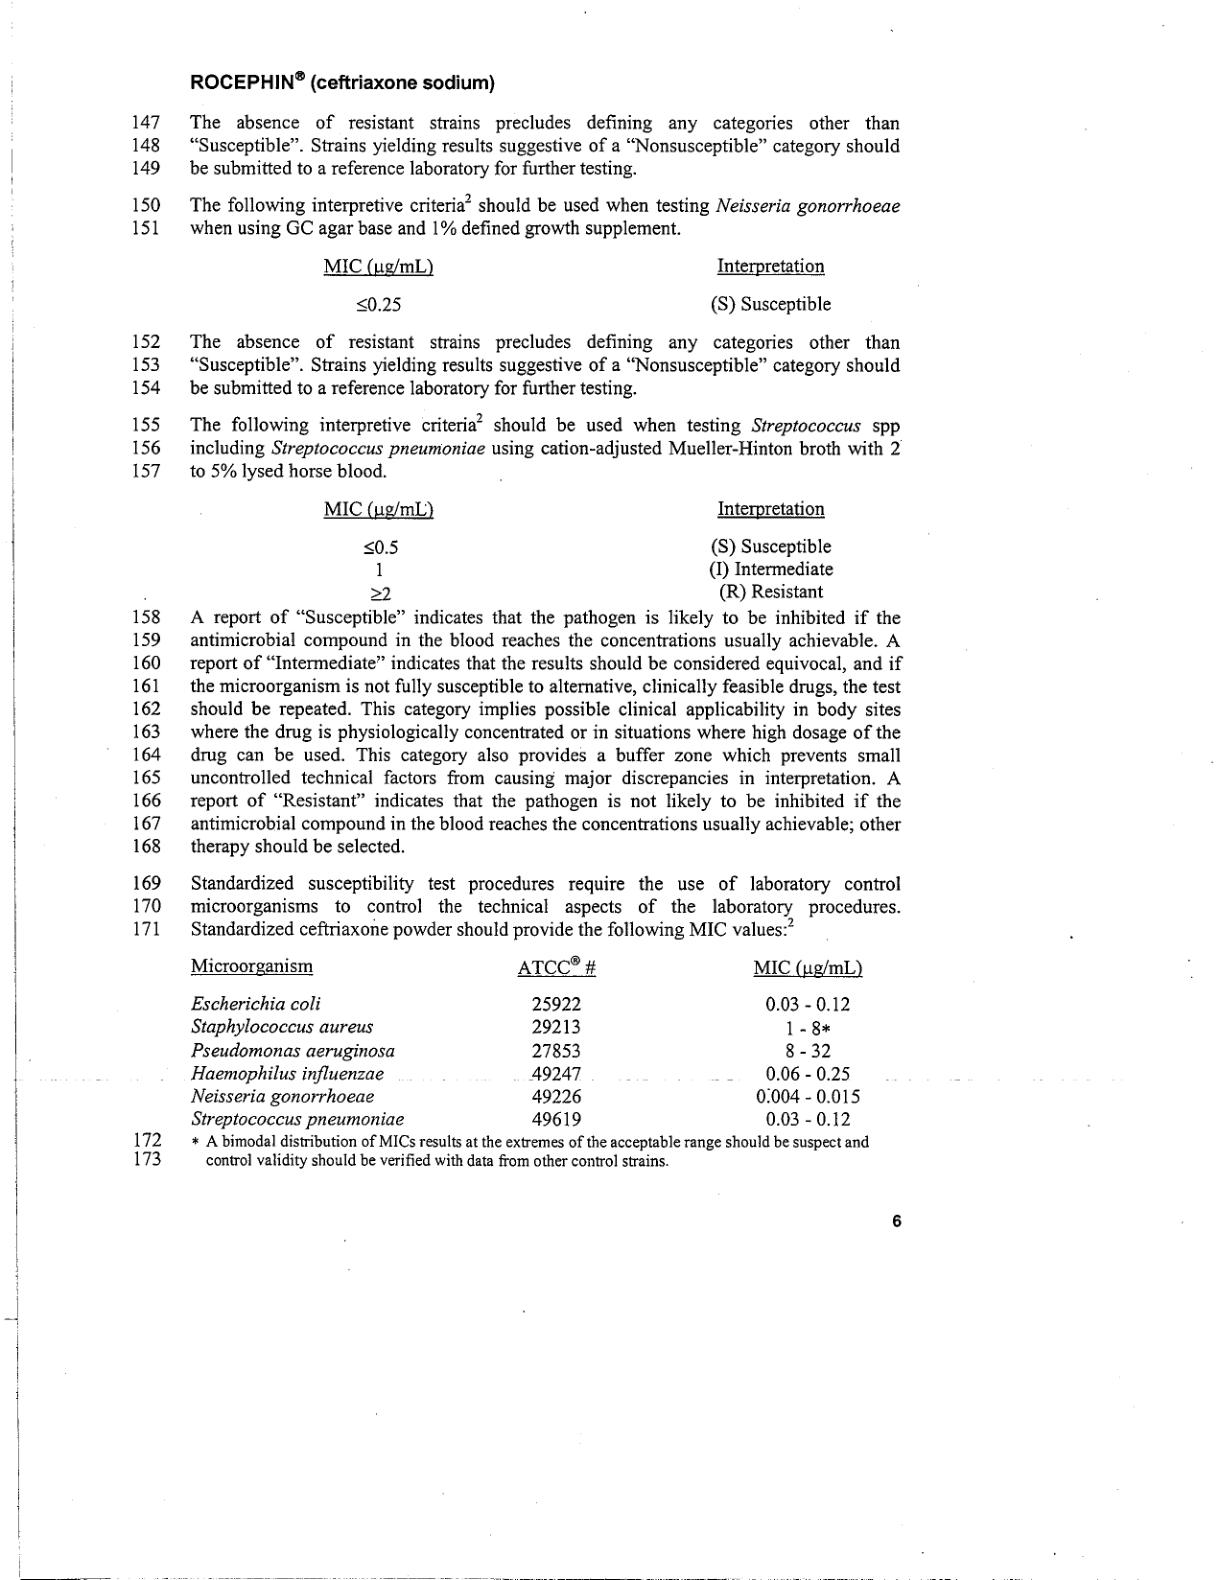nolines: (188, 955, 865, 1129), (320, 496, 836, 598), (322, 252, 834, 317)
